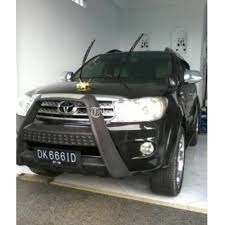plate: (36, 148, 78, 167)
